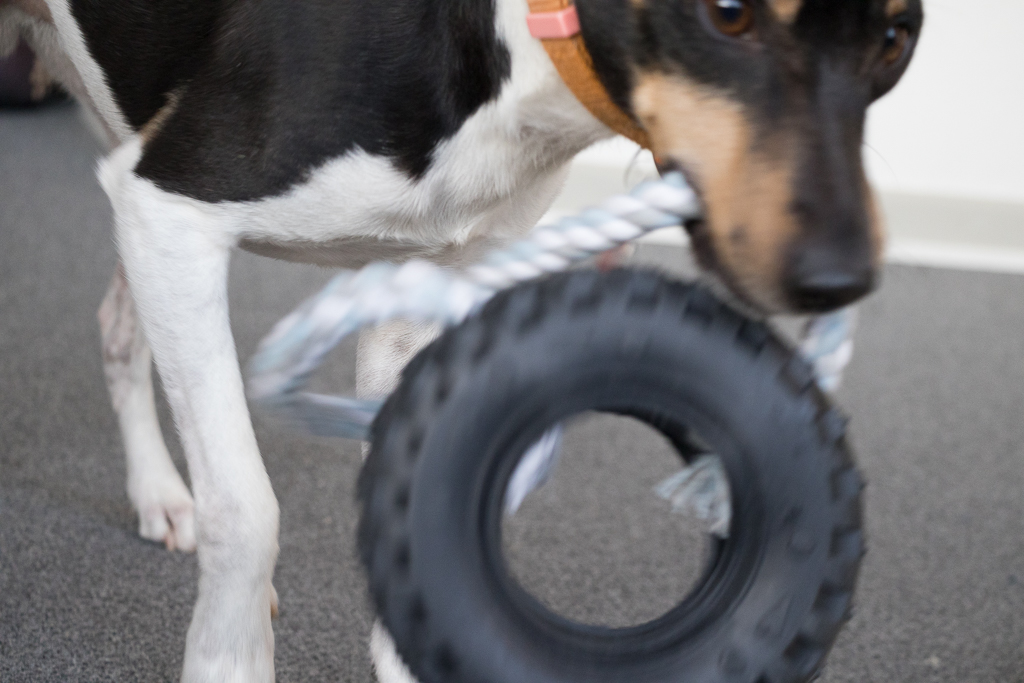Dog: (0, 0, 932, 683)
